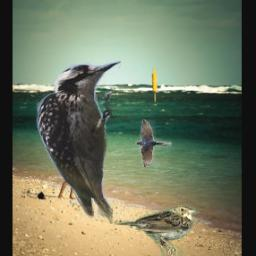Sparrow: (115, 202, 201, 256)
Swallow: (136, 120, 173, 168)
Woodpecker: (30, 54, 126, 225)
